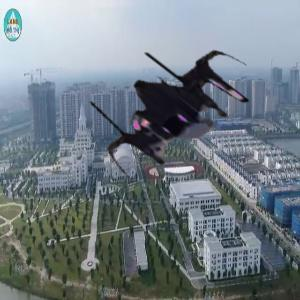drone: (88, 25, 262, 199)
